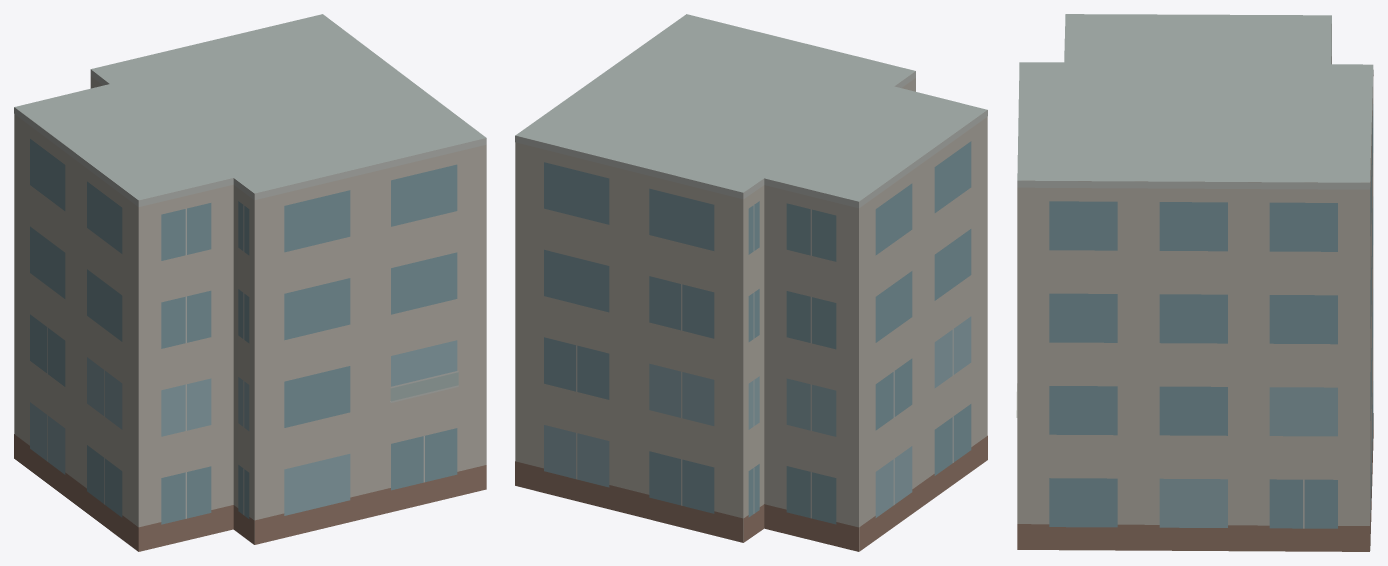
The model's file is survey-upis-32505257.glb.
The picture shows the model from 3 angles, left to right: view 1: azimuth 30°, elevation 25°; view 2: azimuth 150°, elevation 25°; view 3: azimuth 270°, elevation 25°; orthographic projection. The views are drawn at different scales.
Parts seen in each view (by area): view 1: survey-upis-32505257.tmp; view 2: survey-upis-32505257.tmp; view 3: survey-upis-32505257.tmp.
Part boxes in pixels (left/top/right/bottom): survey-upis-32505257.tmp: left=14, top=14, right=486, bottom=551; survey-upis-32505257.tmp: left=515, top=14, right=987, bottom=551; survey-upis-32505257.tmp: left=1016, top=14, right=1373, bottom=551.
Bounding box in the file's own units: 12.56 × 12.8 × 11.23.
